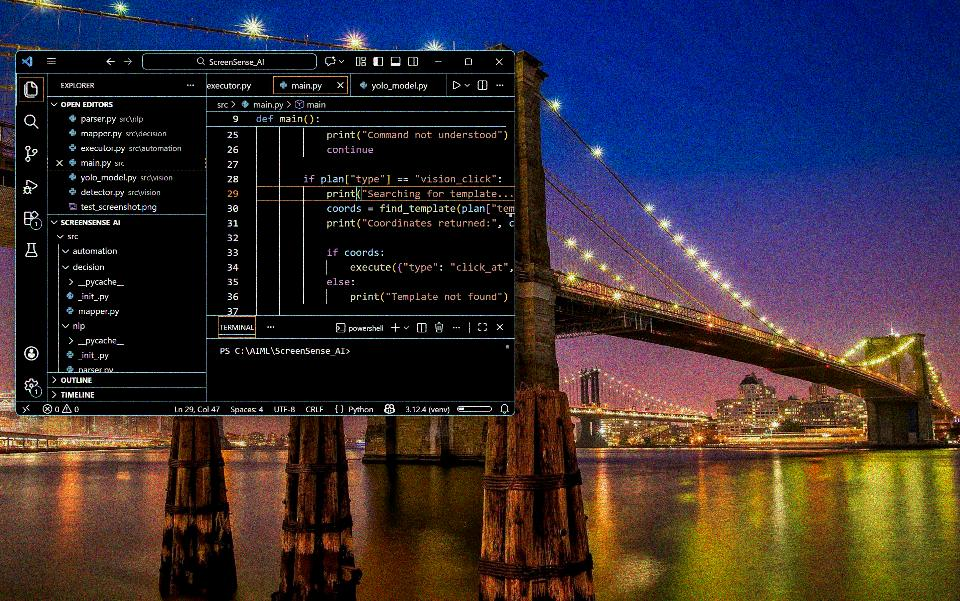close_button: (490, 51, 512, 74)
maximize_button: (458, 52, 482, 73)
minimize_button: (426, 52, 449, 71)
